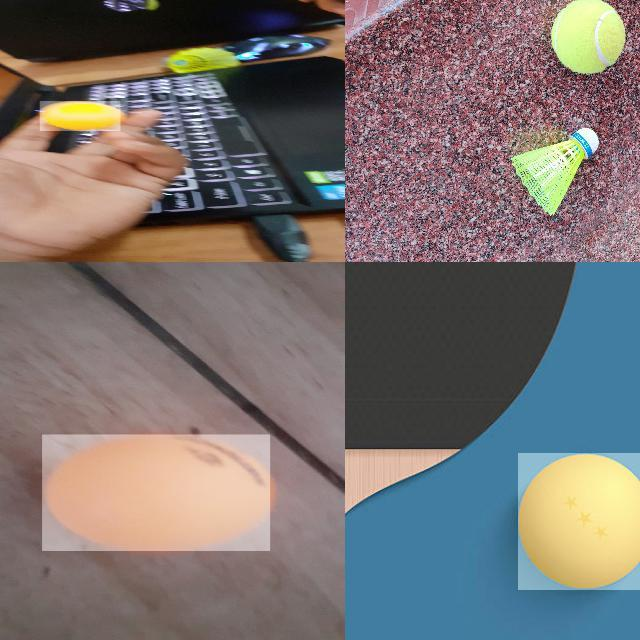ping-pong-ball: (42, 434, 271, 552), (518, 453, 639, 592), (40, 101, 122, 131)
